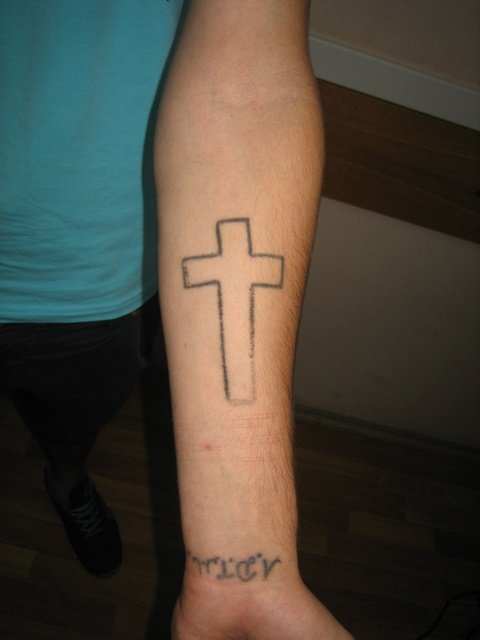tatu3_bukva: (186, 553, 283, 583)
tatu9_krest: (171, 212, 301, 408)
